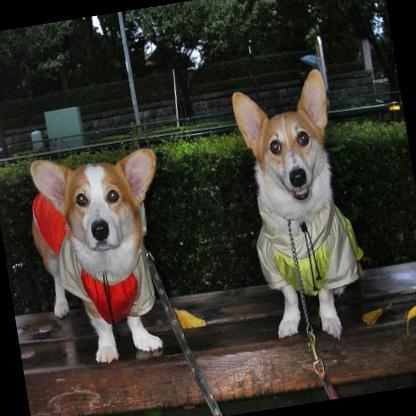Pembroke: (226, 63, 376, 352), (16, 135, 186, 370)
